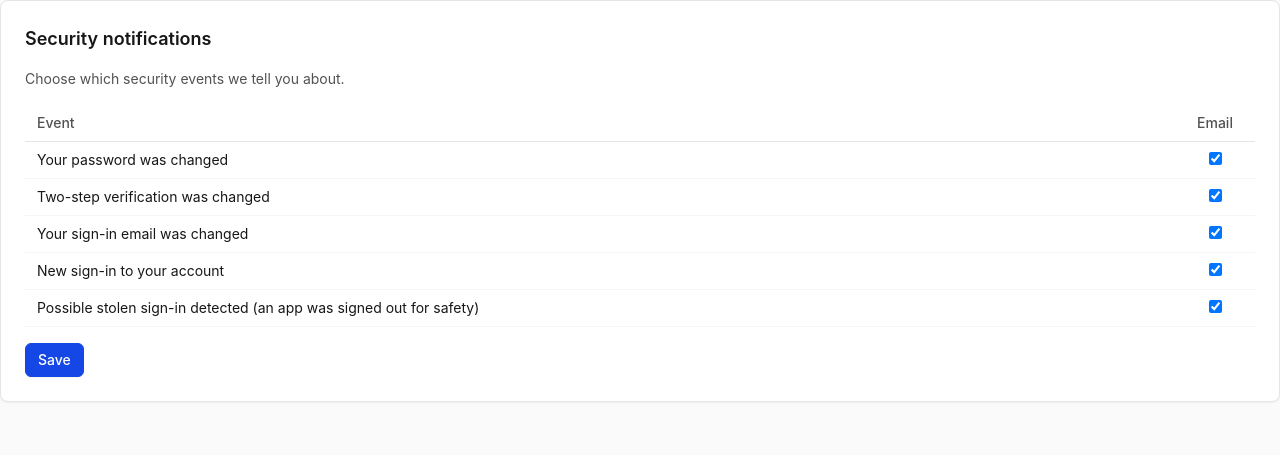
Test: NotificationsPage › lists every event and saves the toggles with PUT
Click the checkbox with test id "email-new_sign_in" at coordinates (1215, 270), box [1208,263,1222,276]
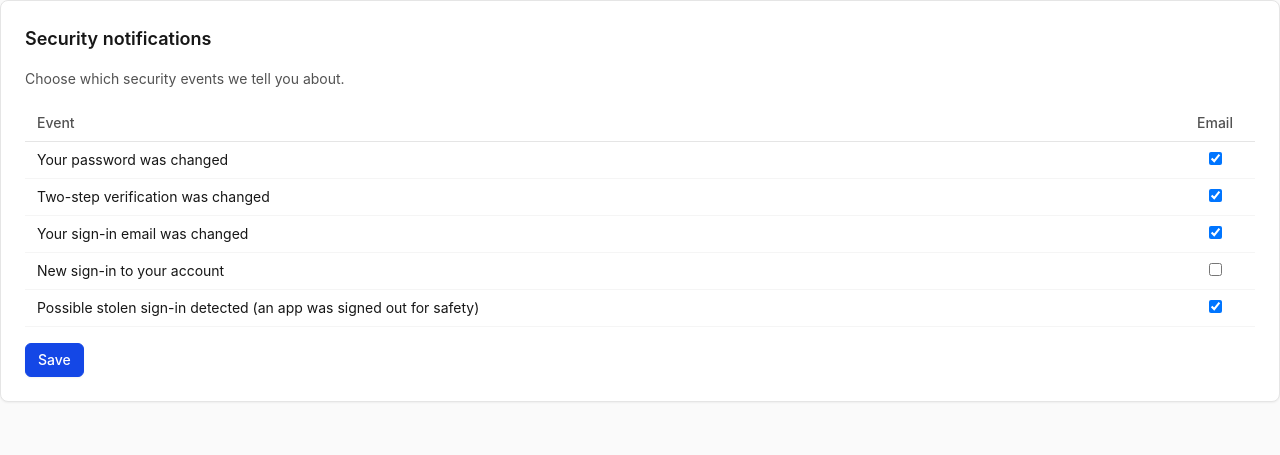
Submit the form
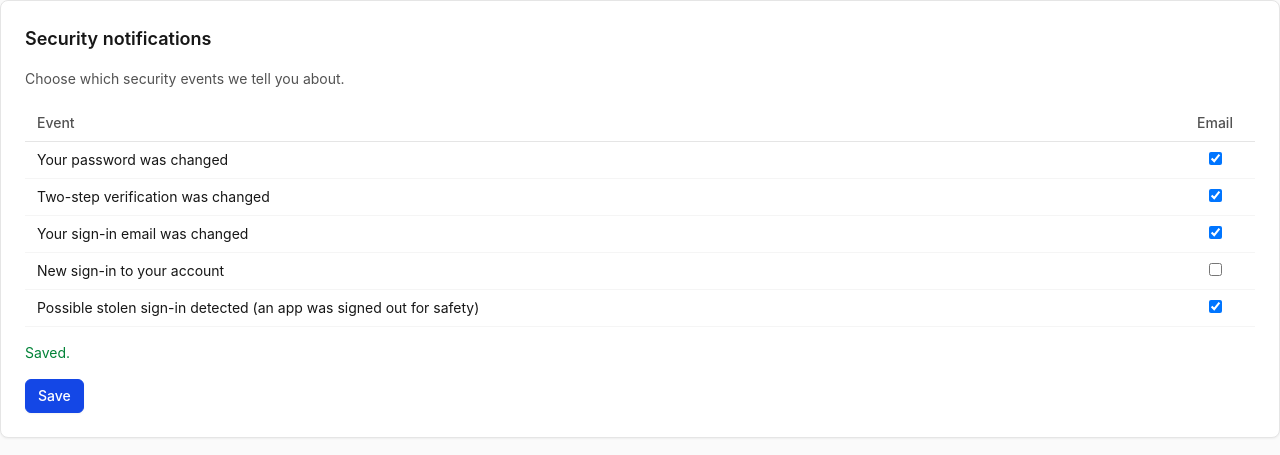
Check: the message "Saved." is shown, box [25,344,70,361]
